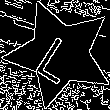L_NE: (32, 24, 87, 83)
